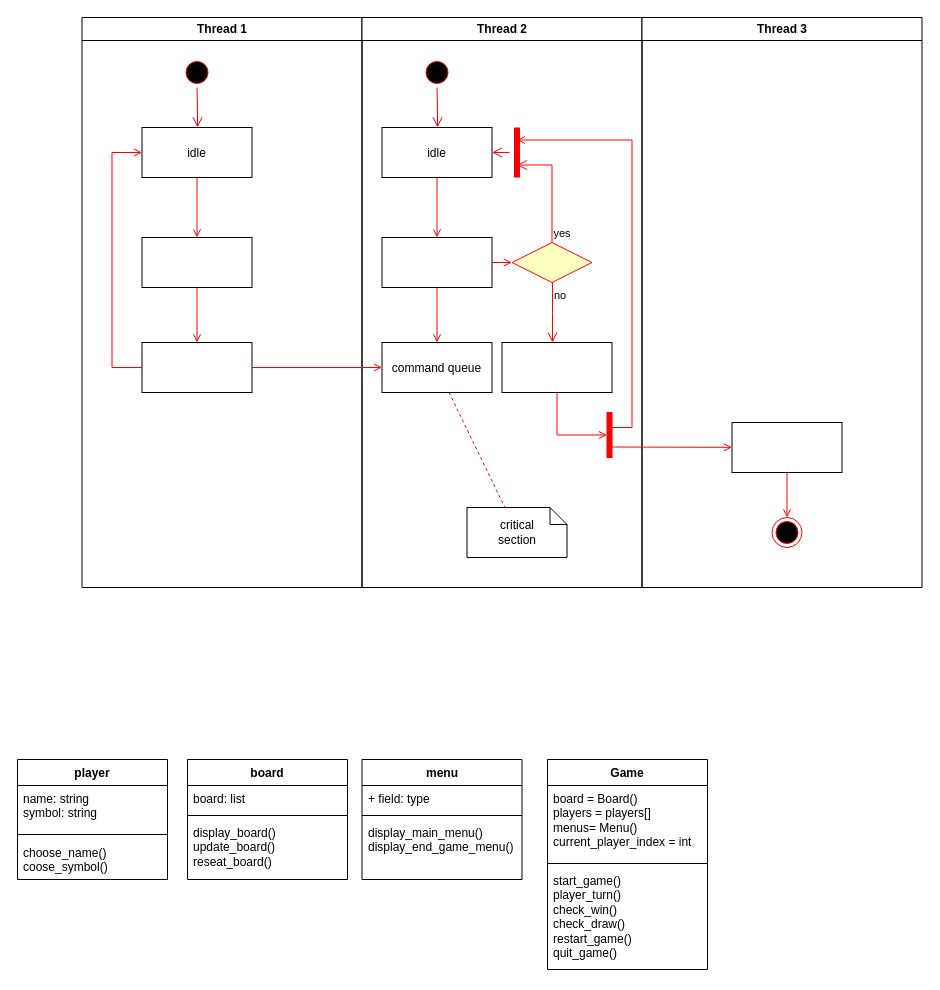
Some shapes in this 940 by 990 pixel diagram are drawn without their labels. Each missing label, with the centre of its shape:
"check for new commands" belongs at point (436, 262).
"dispatch command worker thread" belongs at point (556, 367).
"post command" belongs at point (196, 367).
"process command" belongs at point (786, 447).
"queue empty" belongs at point (551, 262).
"user action" belongs at point (196, 262).
